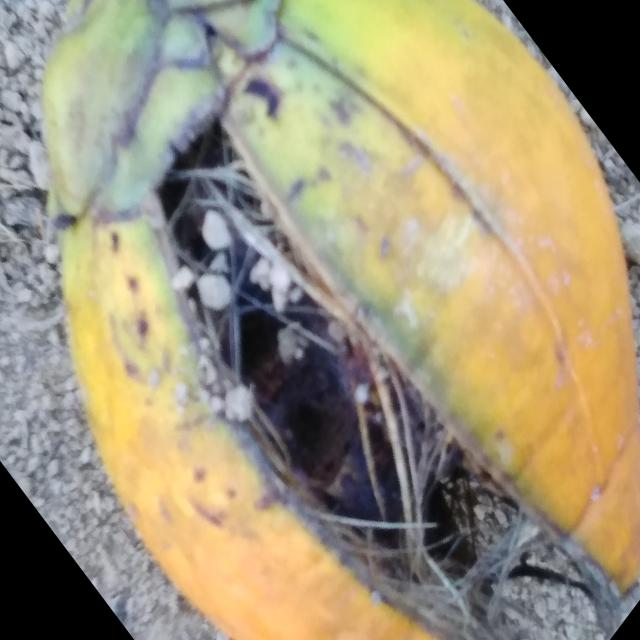damaged: (44, 0, 640, 640)
